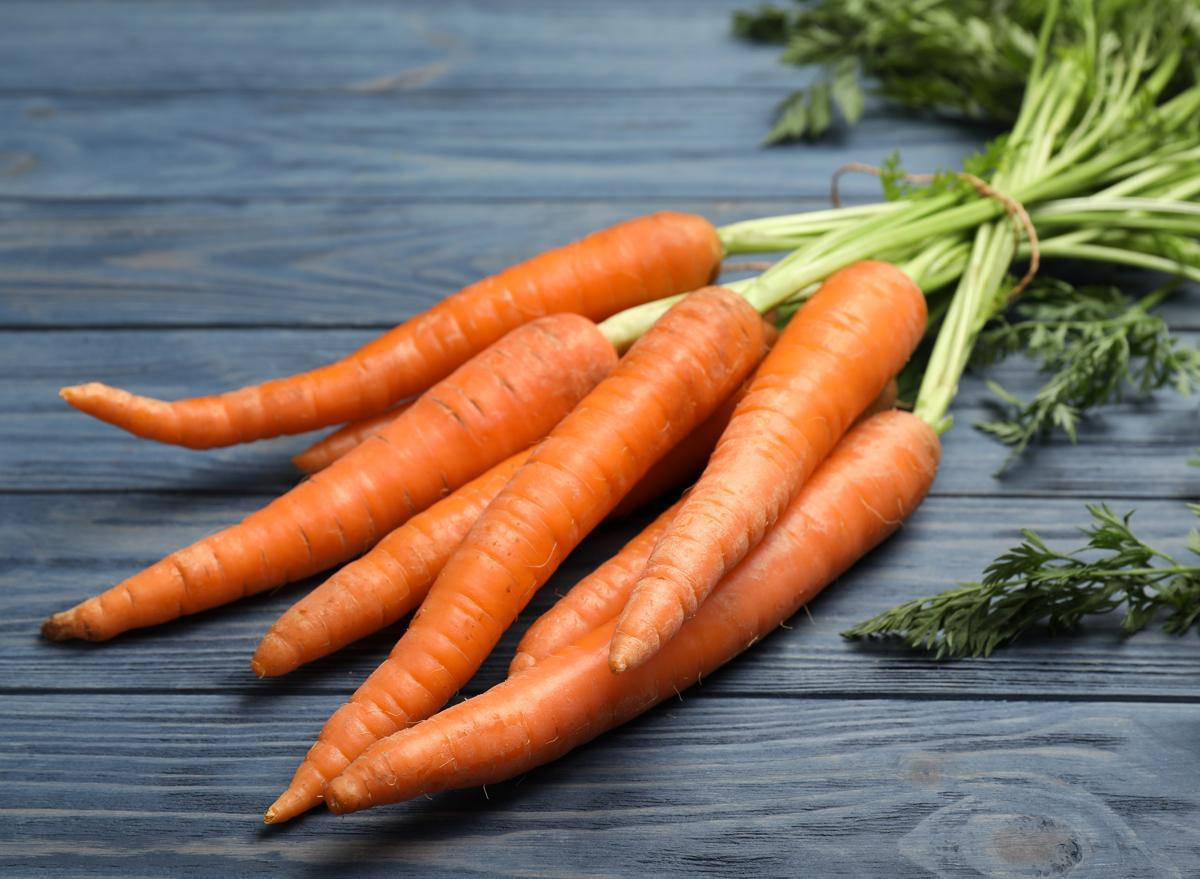carrot: (28, 223, 993, 863), (563, 0, 1200, 679), (88, 301, 749, 843)
